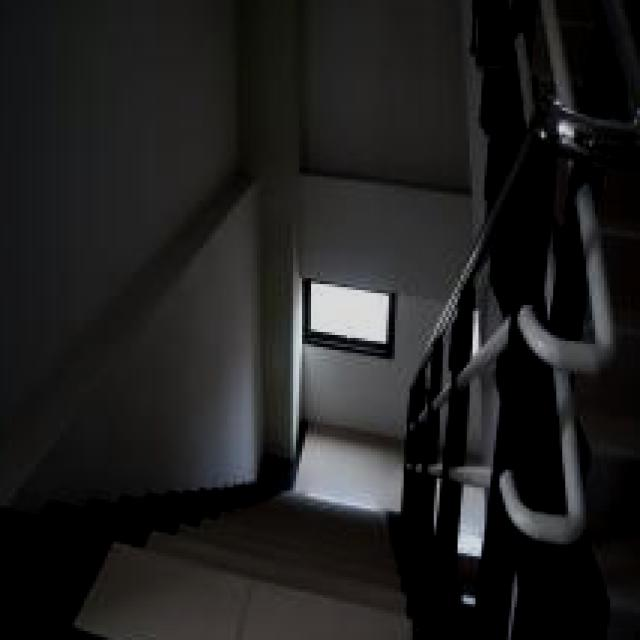downstair: (40, 443, 426, 640)
